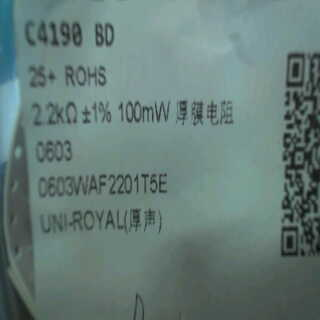2.2kR: (29, 97, 83, 130)
